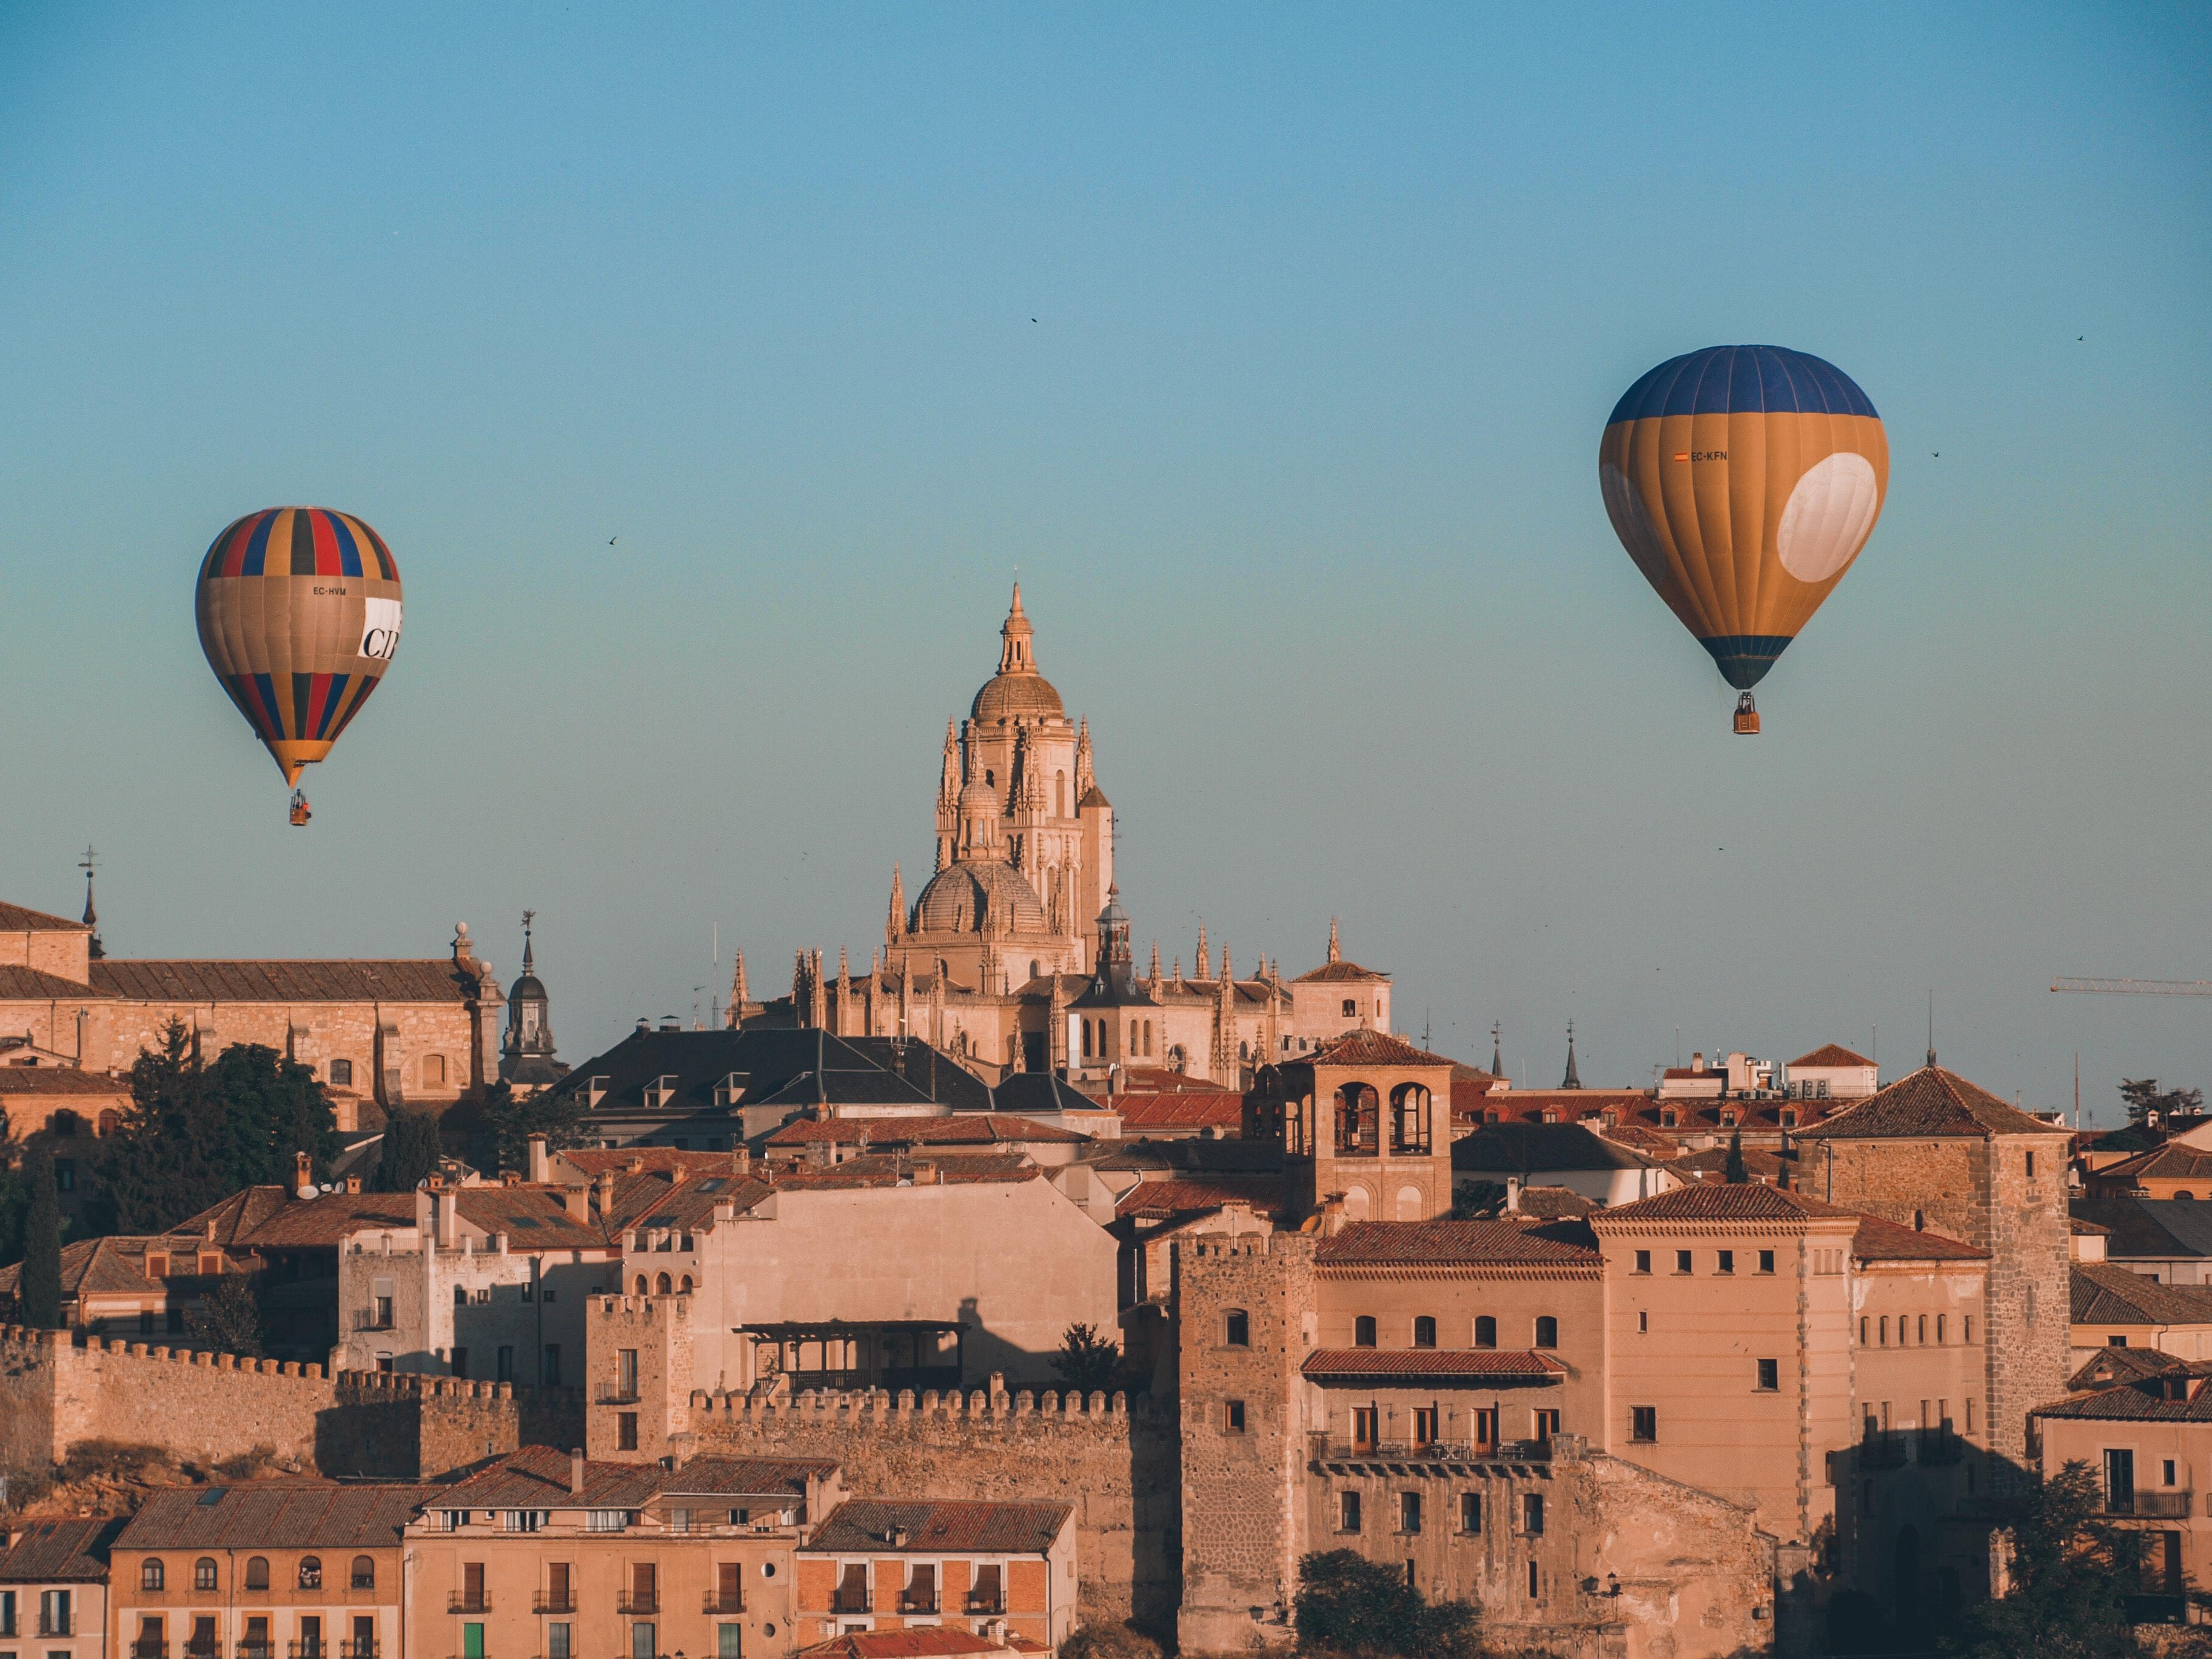hot air ballon: (1599, 342, 1890, 732), (193, 507, 404, 826)
